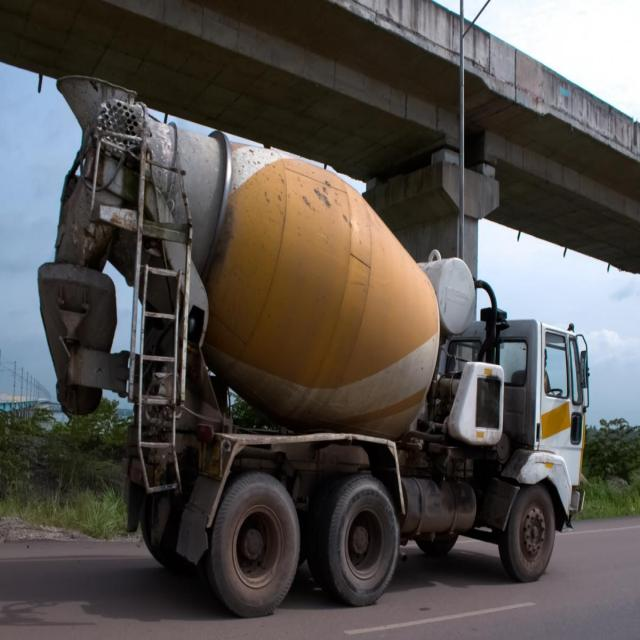truck: (39, 77, 589, 617)
